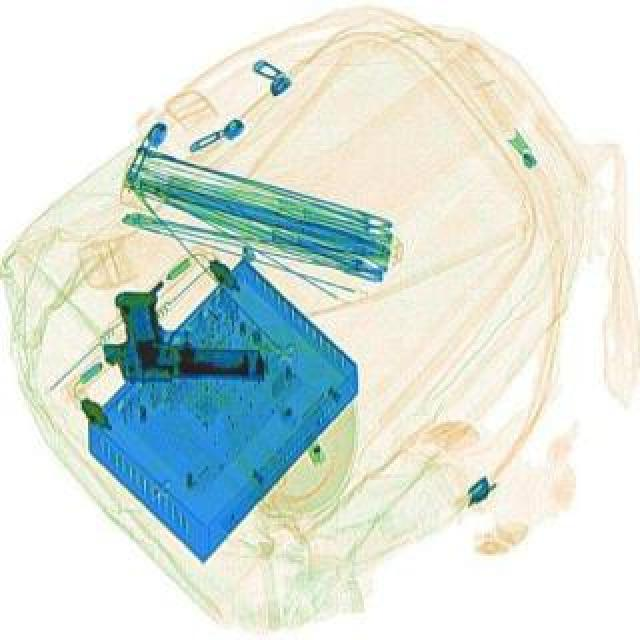gun: (104, 296, 268, 384)
